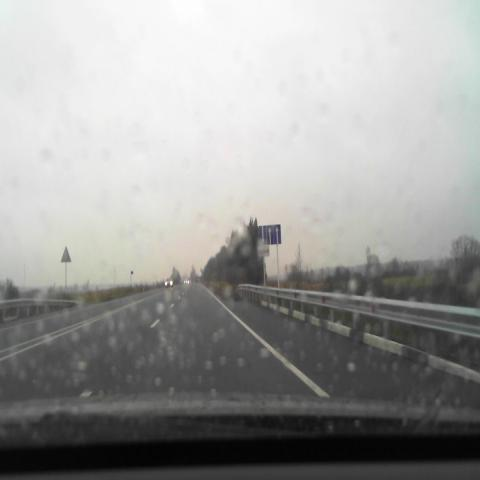5_15_7: (258, 224, 281, 245)
